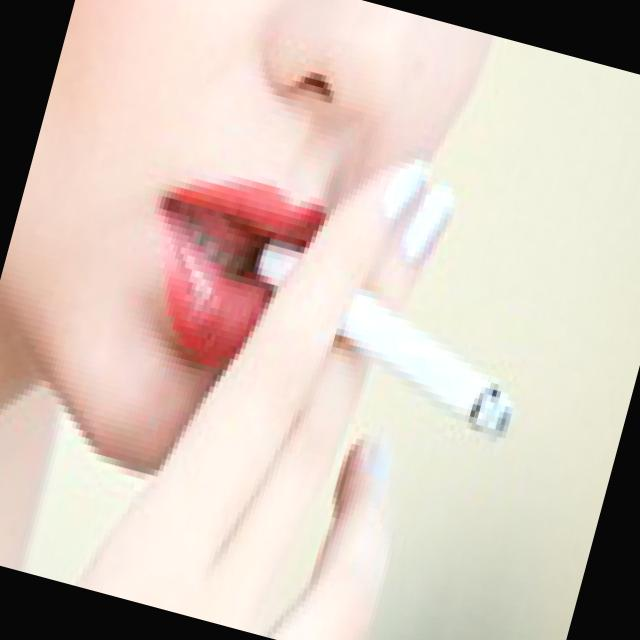smoke: (211, 216, 558, 468)
